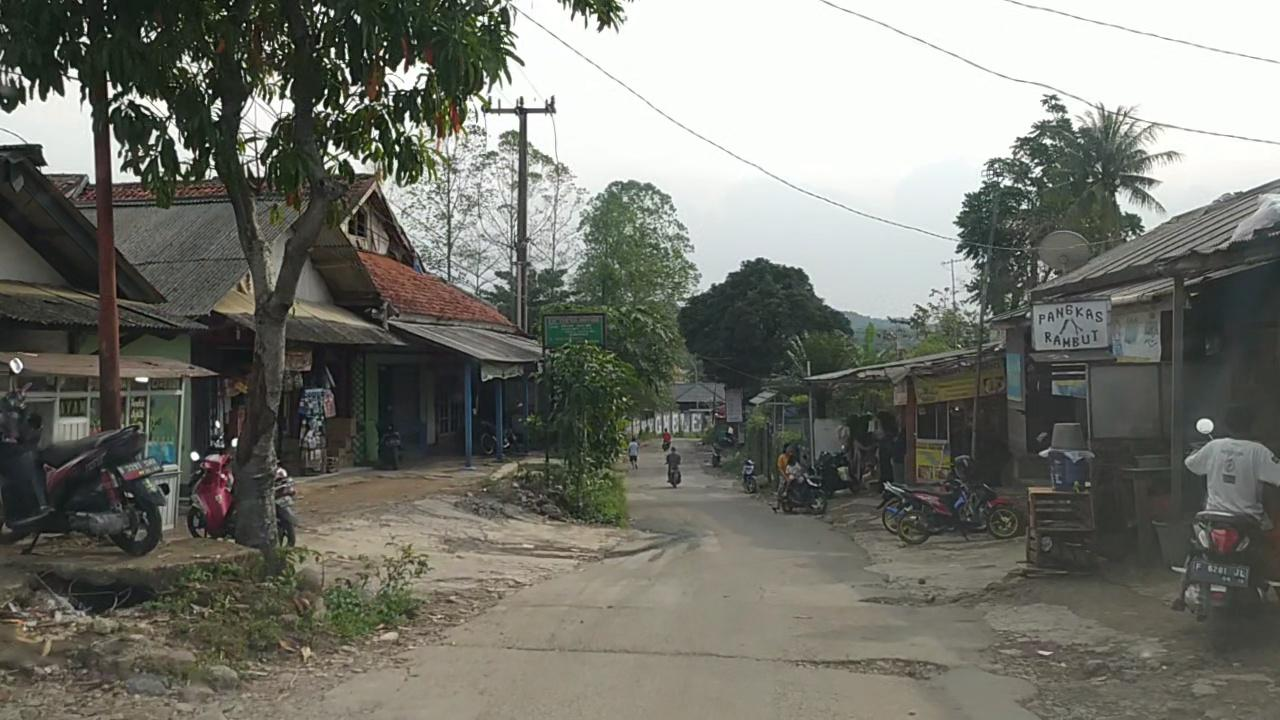pothole: (780, 657, 946, 681), (860, 593, 950, 609)
